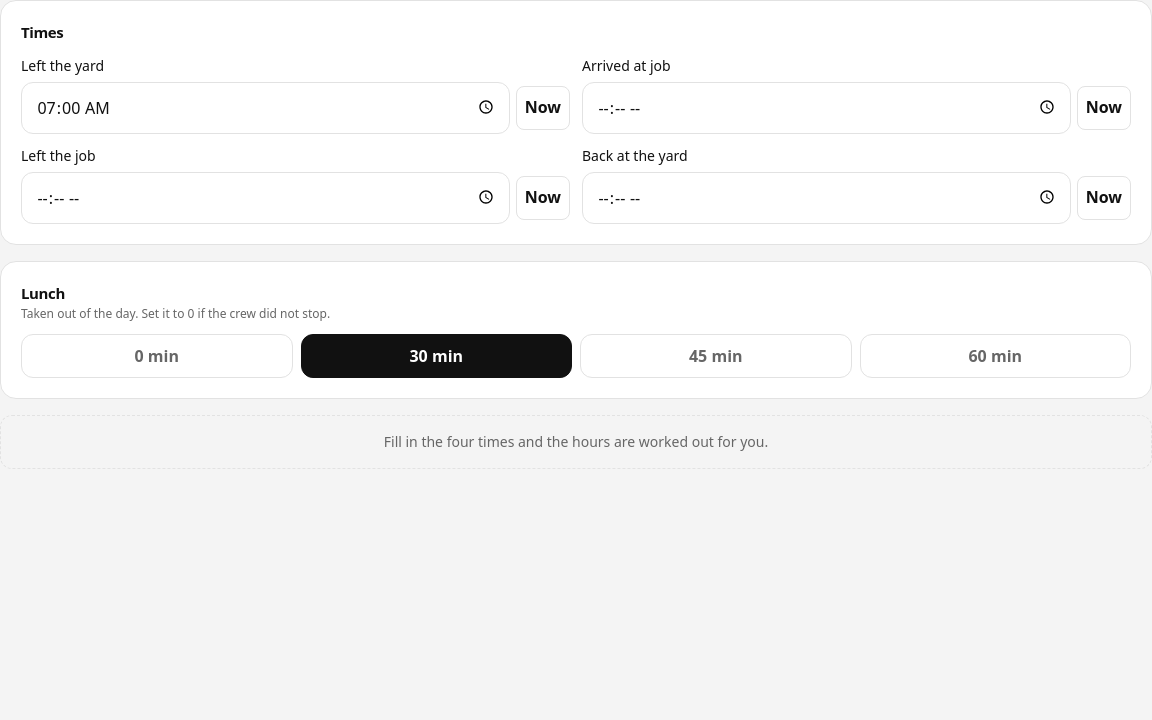
Test: times that contradict each other › flags an arrival that comes before leaving the yard, naming what it must follow
The image size is (1152, 720).
Step 1. Type "06:30" into the time field labelled "Arrived at job" → (826, 108), box x1=582 y1=82 x2=1071 y2=134
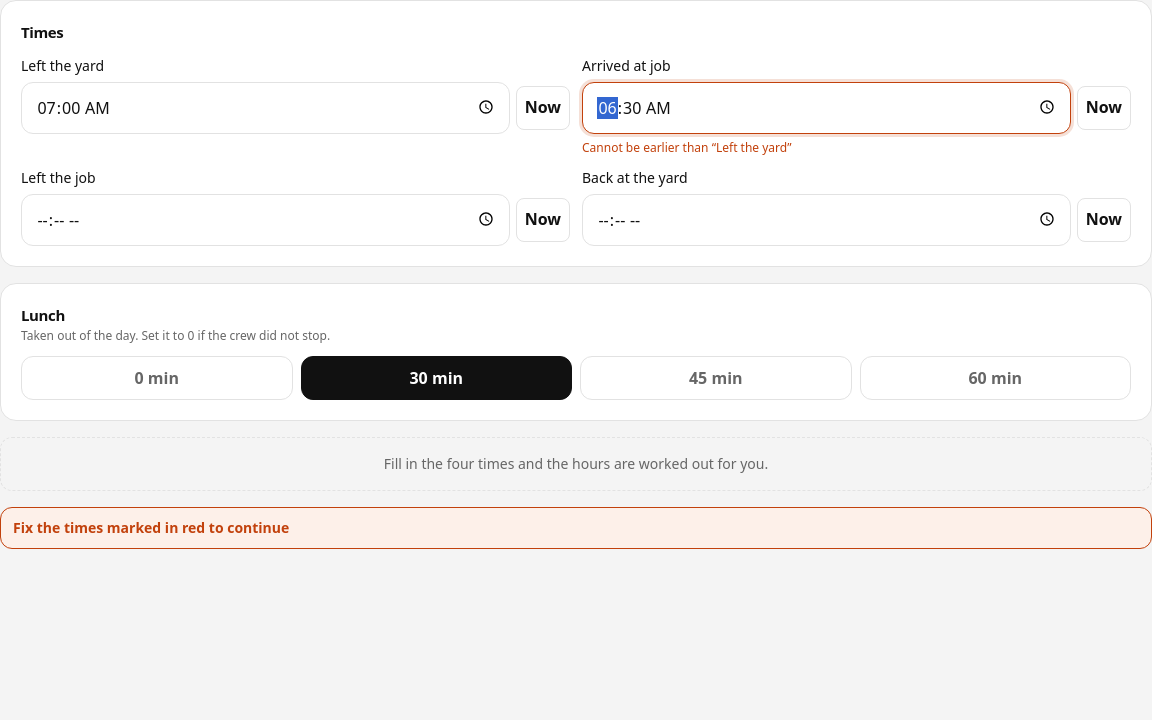
Now the message reads "Cannot be earlier than “Left the yard”", box x1=582 y1=138 x2=792 y2=156
Now the text "Fix the times marked in red to continue" is shown, box x1=0 y1=507 x2=1151 y2=549
